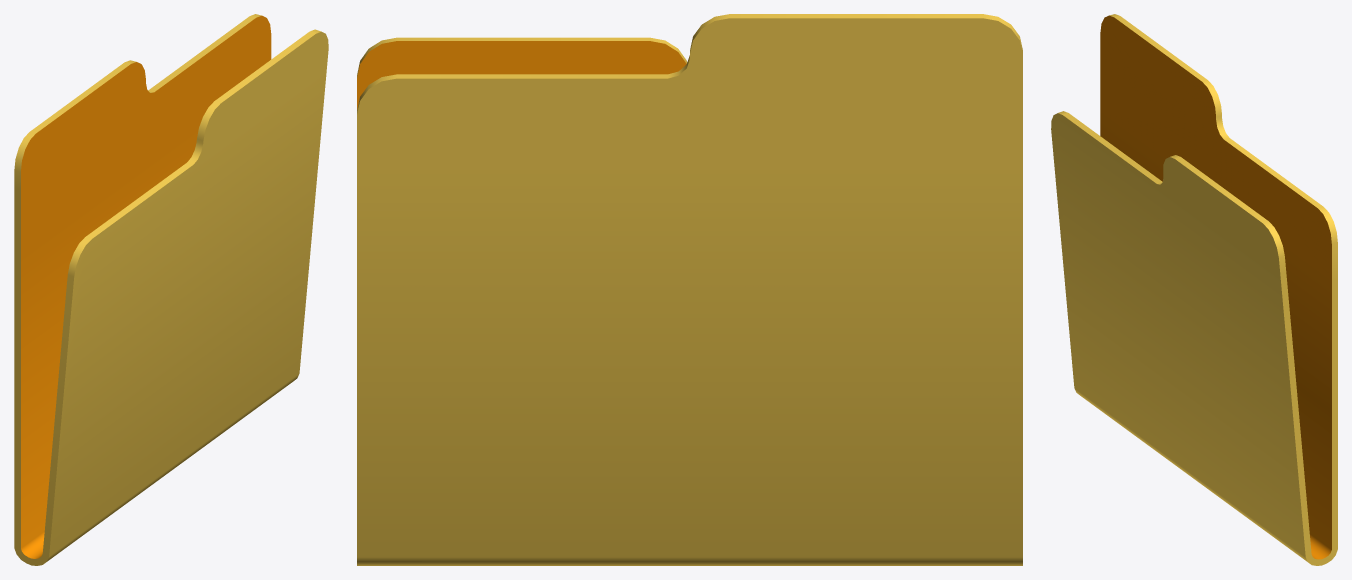
The model's file is file_folder.gltf.
3 renders of one model, left to right at view 1: azimuth 30°, elevation 25°; view 2: azimuth 150°, elevation 25°; view 3: azimuth 270°, elevation 25°, orthographic. The views are drawn at different scales.
Visible parts, largest first — view 1: Cube.976; view 2: Cube.976; view 3: Cube.976.
Boxes of the visible parts, x1,y1,x2,y2 form: Cube.976: (14,14,328,565); Cube.976: (357,14,1022,565); Cube.976: (1051,14,1337,565).
Bounding box in the file's own units: 1.9 × 1.86 × 1.25.
Materials: 1 (1 with a texture image).
